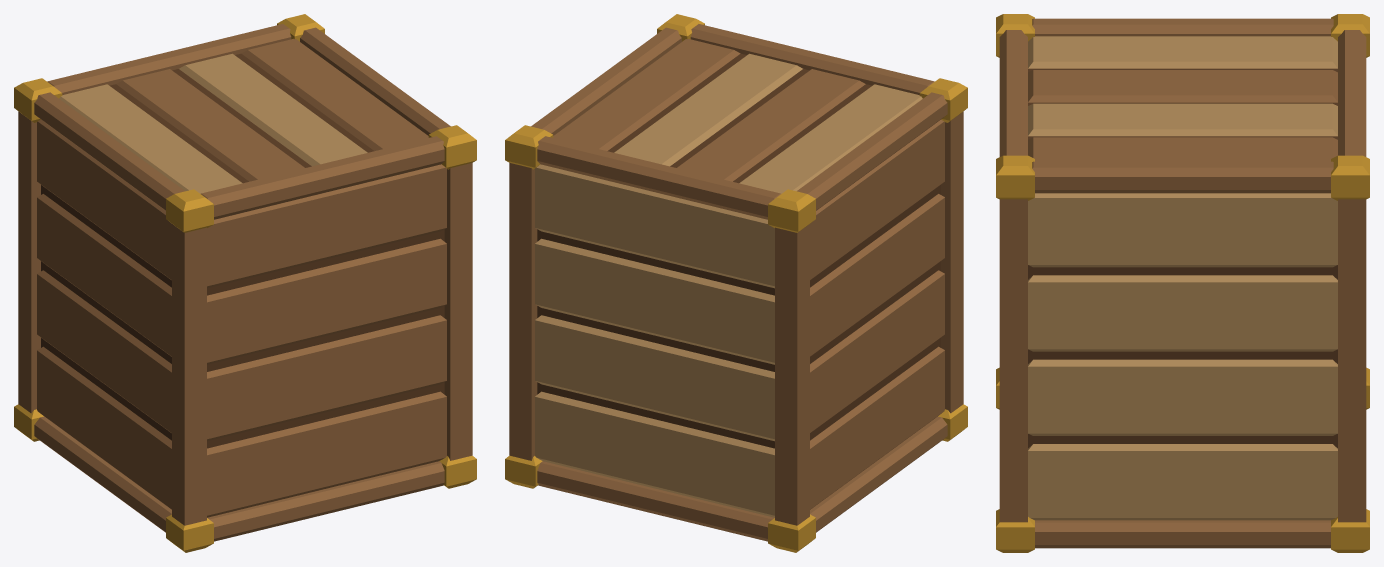
Rendered from Crate_20.glb.
The picture shows the model from 3 angles, left to right: view 1: azimuth 30°, elevation 25°; view 2: azimuth 150°, elevation 25°; view 3: azimuth 270°, elevation 25°; orthographic projection. The views are drawn at different scales.
Parts seen in each view (by area): view 1: Crate_20; view 2: Crate_20; view 3: Crate_20.
Boxes of the visible parts, bbox=[...] form: Crate_20: bbox=[14, 14, 476, 552]; Crate_20: bbox=[505, 14, 967, 552]; Crate_20: bbox=[996, 14, 1369, 552].
Bounding box in the file's own units: 2.12 × 2.42 × 2.12.
